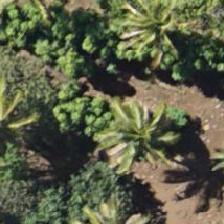coconut_tree: (88, 86, 178, 176), (111, 0, 201, 69)
